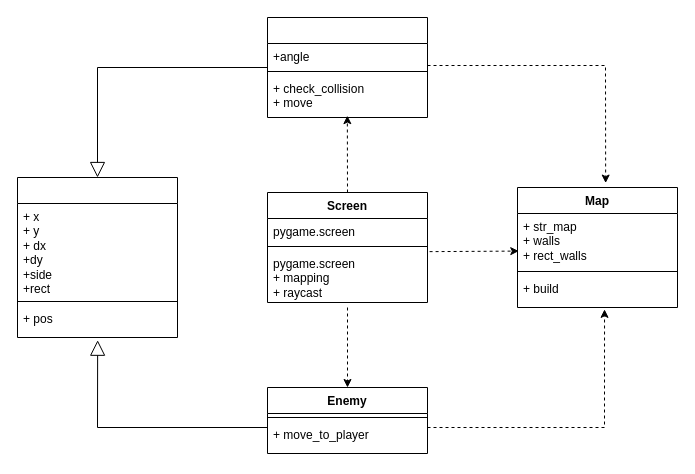
This 695x474 diagram has some shape labels left out. Here are the shapes that lost their labels. From the top down, the box of each, then its label:
(266, 16, 428, 118): Player
(16, 176, 178, 338): Entity
